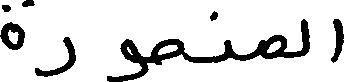X: (36, 32, 74, 81), (110, 34, 146, 81), (0, 0, 23, 54), (153, 34, 180, 69), (264, 30, 284, 63), (334, 14, 343, 66), (303, 14, 308, 60), (224, 35, 229, 65)
